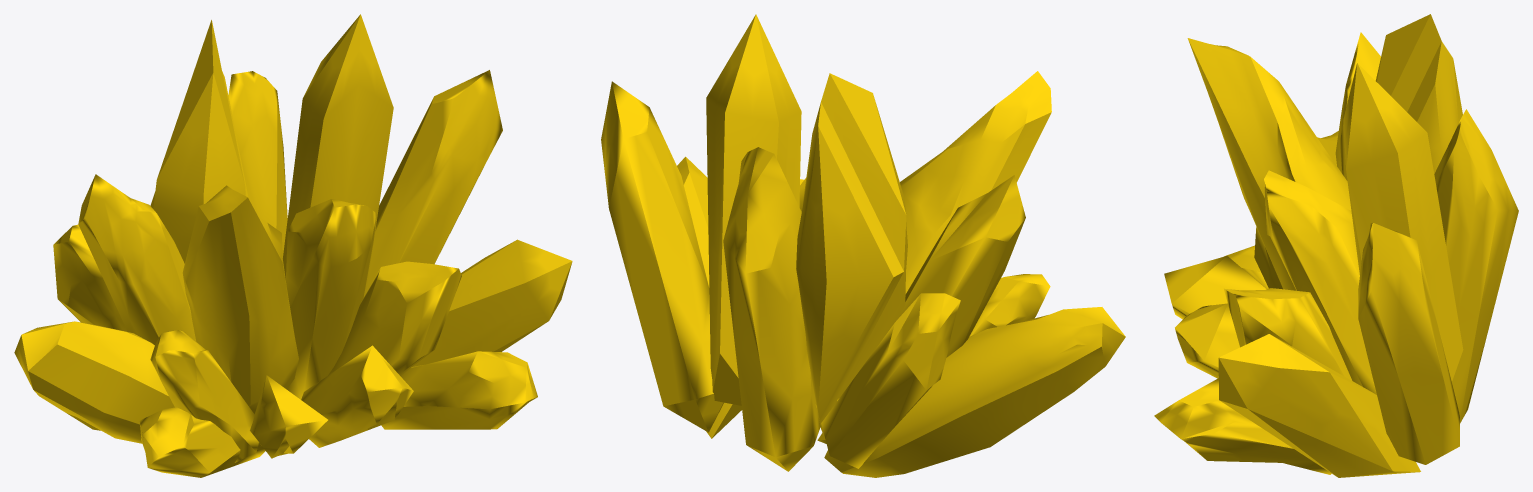
File: cry4.fbx
3 views of the same model, side by side, from view 1: azimuth 30°, elevation 25°; view 2: azimuth 150°, elevation 25°; view 3: azimuth 270°, elevation 25° (orthographic).
Parts seen in each view (by area): view 1: cry4; view 2: cry4; view 3: cry4.
Part boxes in pixels (box(x1,y1,x2,y2)): cry4: box(14, 14, 572, 477); cry4: box(601, 14, 1125, 477); cry4: box(1154, 14, 1518, 477).
Bounding box in the file's own units: 87.82 × 70.51 × 55.96.
